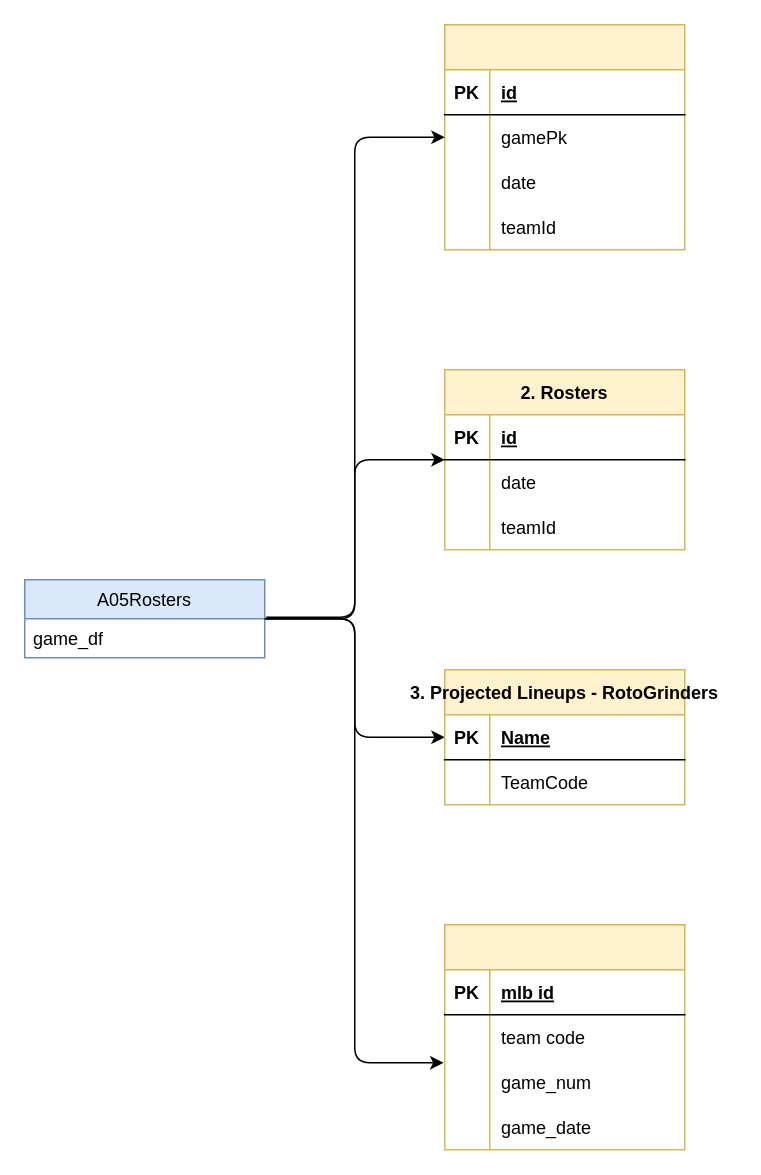
Some shapes in this 761 by 1175 pixel diagram are drawn without their labels. Here are the shapes that lost their labels. From the top down, the box of each, then its label:
(443, 23, 685, 250): 1. Batting Orders
(443, 923, 685, 1150): 4. Projected Lineups - Baseball Monster
